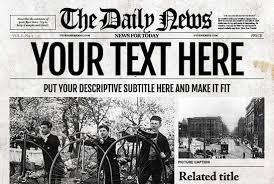Printing industry: (2, 2, 274, 184)
